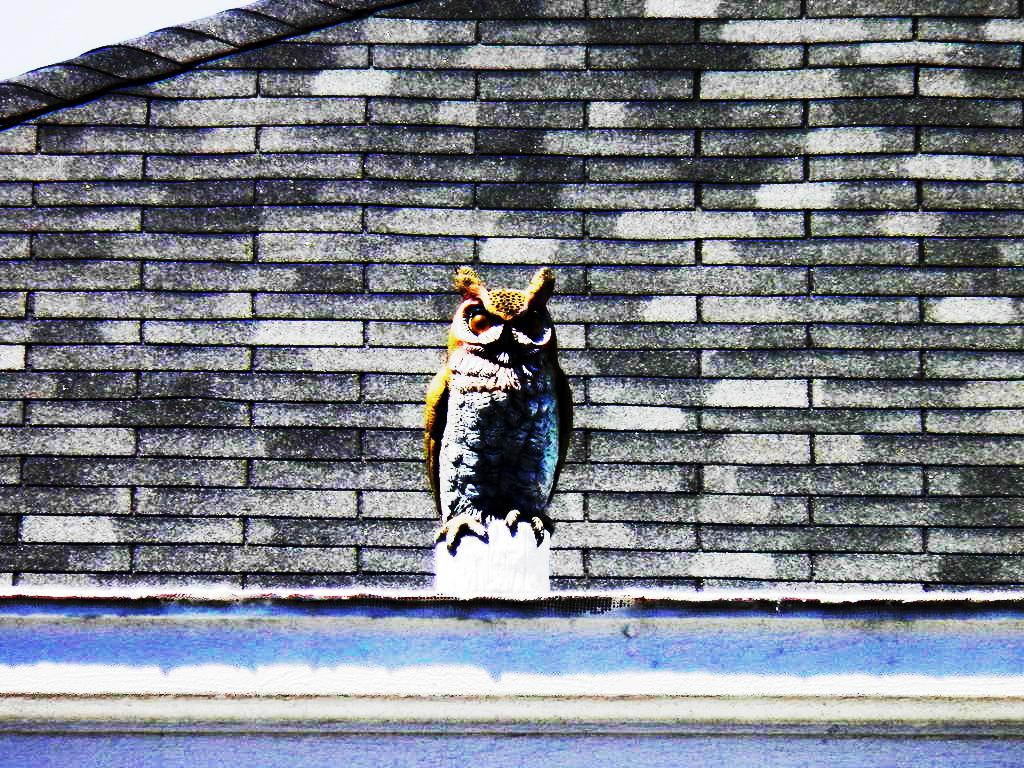Owl: (426, 273, 579, 560)
